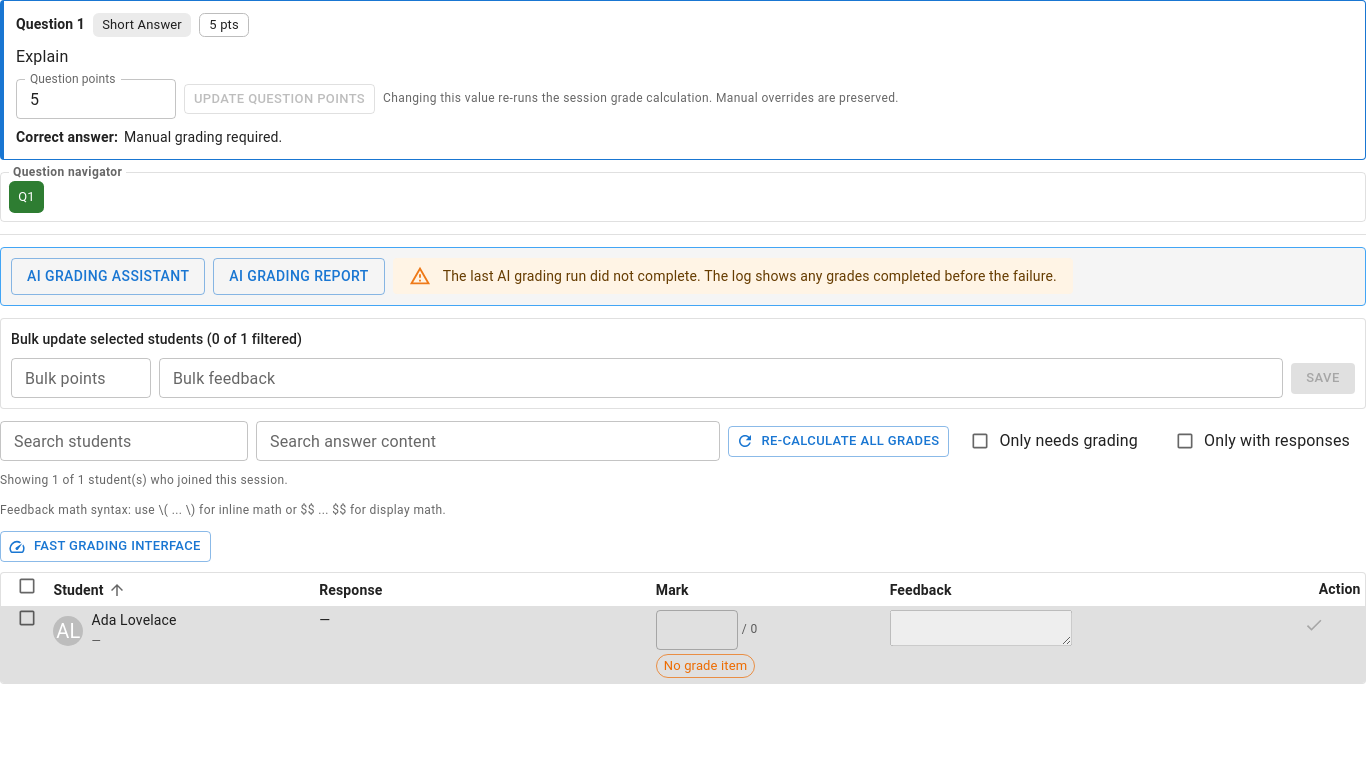
Test: SessionQuestionGradingPanel › keeps a failed AI grading report available with its error and partial log notice
Click the button "AI grading report".
click(299, 276)  # box [213,258,385,294]
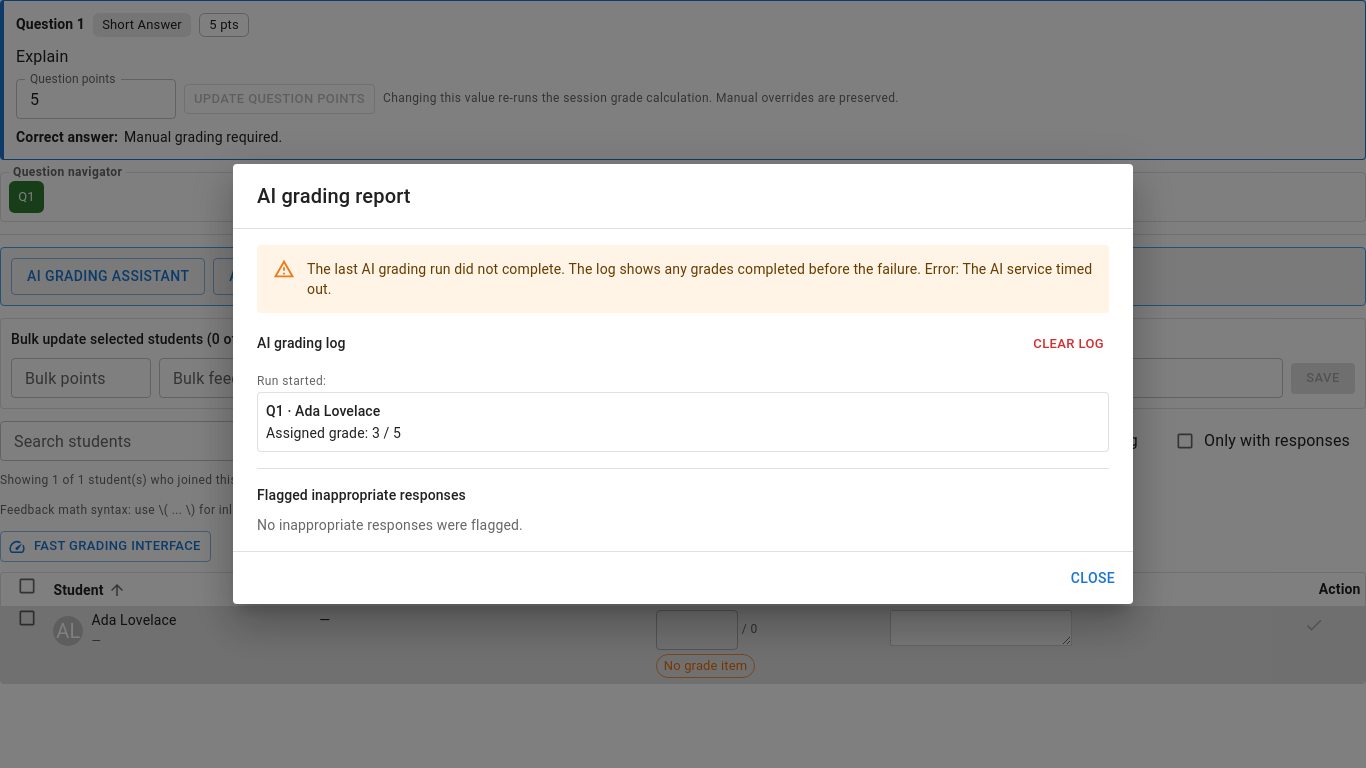
Check: the text "last AI grading run did not complete" is shown 2 times, box [443,268,1057,284]; [307,251,1093,307]
Check: the text "The AI service timed out" is shown, box [307,261,1092,297]
Check: the heading "Q1 · Ada Lovelace" is shown, box [266,403,380,419]
